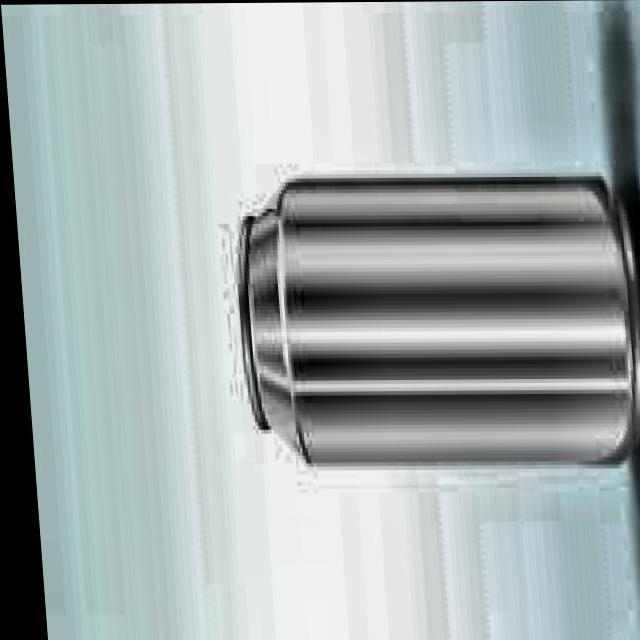litter: (216, 162, 640, 472)
